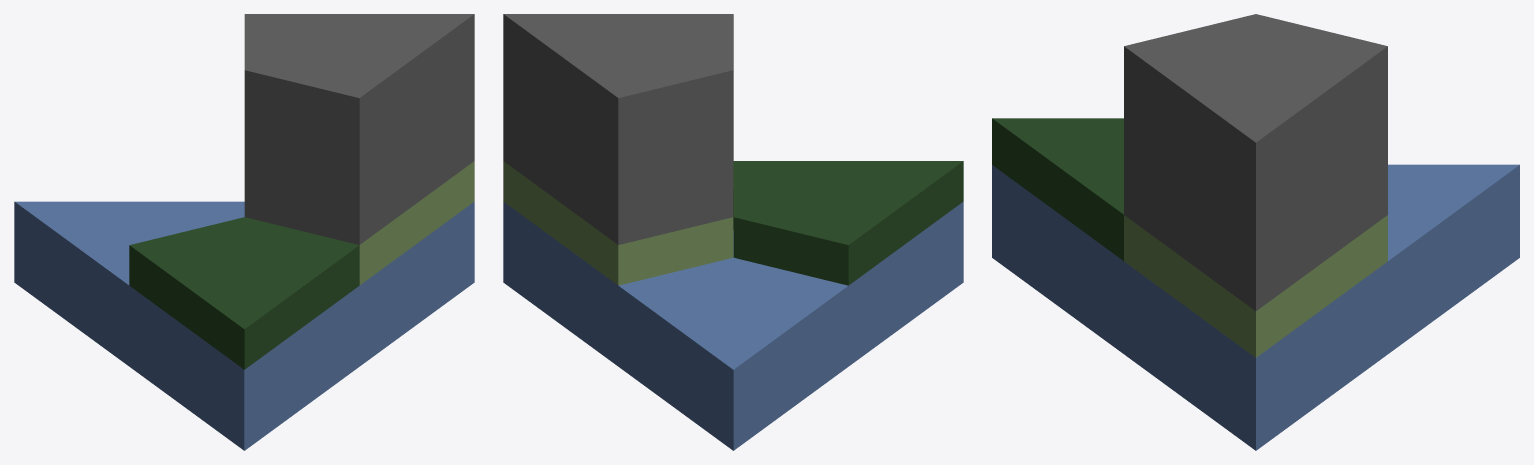
Rendered from tri_9.glb.
3 views of the same model, side by side, from view 1: azimuth 30°, elevation 25°; view 2: azimuth 150°, elevation 25°; view 3: azimuth 270°, elevation 25° (orthographic). The views are drawn at different scales.
Parts seen in each view (by area): view 1: tri_9; view 2: tri_9; view 3: tri_9.
Boxes of the visible parts, <box> form: tri_9: <box>14,14,474,450</box>; tri_9: <box>503,14,963,450</box>; tri_9: <box>992,14,1519,450</box>.
Size of the model in its own units: 0.7423 by 0.5521 by 0.8571.
